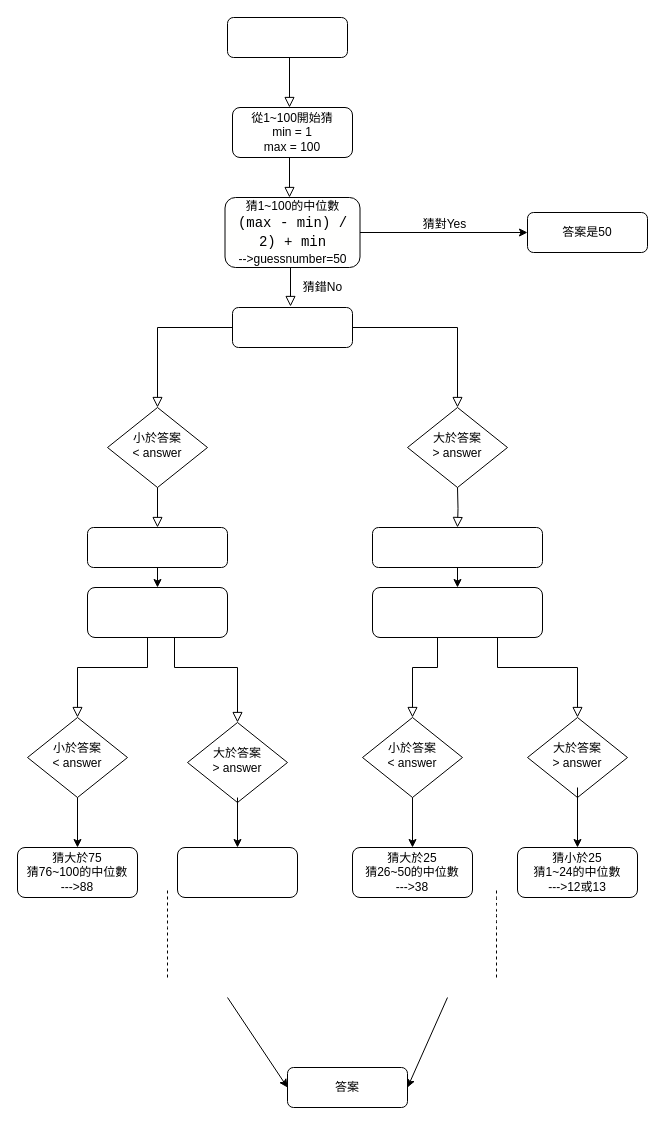
Image size: 665x1125. Some labels were removed from this diagram. Each missing label, with the centre of its shape:
猜1~49的中位數 (max-min)/2+min (49-1)/2+1-->25: (x=457, y=612)
猜51~100的中位數 (max-min)/2+min (100-51)/2+51-->75: (x=157, y=612)
猜大於50 min=guessnumber+1: (x=157, y=547)
猜大於50或小於50: (x=292, y=327)
猜小於50 max = guessAnswer - 1: (x=457, y=547)
猜小於75 猜51~74的中位數 --->62或63: (x=237, y=872)
開始: (x=287, y=37)
